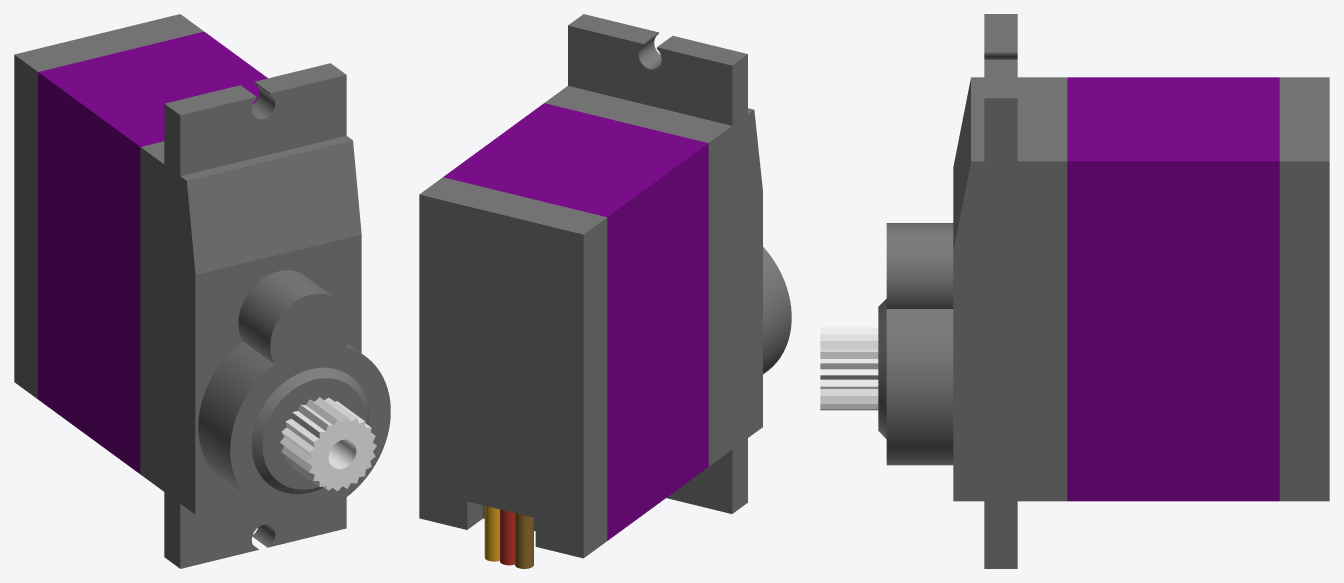
The model's file is servo_1143.step.glb.
3 renders of one model, left to right at view 1: azimuth 30°, elevation 25°; view 2: azimuth 150°, elevation 25°; view 3: azimuth 270°, elevation 25°, orthographic. The views are drawn at different scales.
Parts seen in each view (by area): view 1: body:1, spline:1; view 2: body:1; view 3: body:1, spline:1.
Part boxes in pixels (x1,y1,x2,y2): body:1: (14,14,390,568); spline:1: (280,397,376,491); body:1: (419,14,791,568); body:1: (878,14,1329,568); spline:1: (820,327,878,410).
Size of the model in its own units: 0.012 by 0.0313 by 0.0307.
